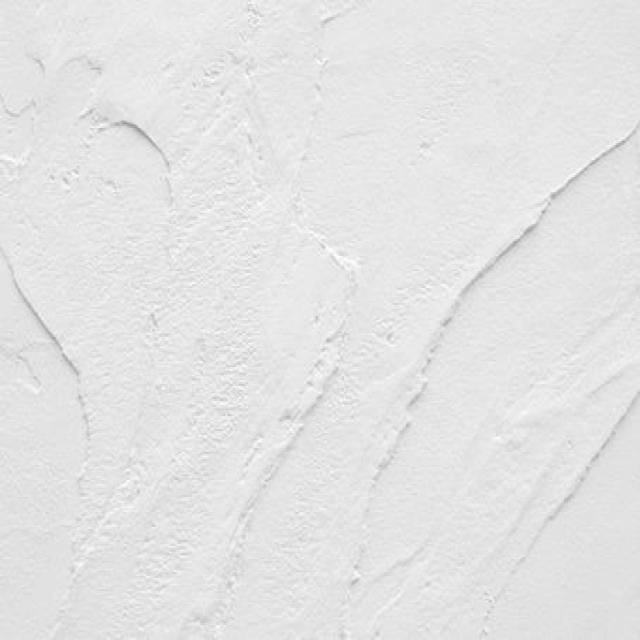trowels marks: (206, 107, 638, 636), (0, 20, 185, 591), (293, 1, 379, 46)
